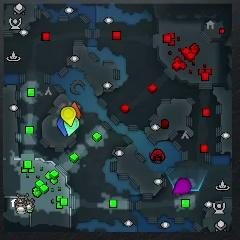p1: (57, 117, 67, 136)
p2: (64, 118, 79, 137)
p3: (173, 178, 191, 195)
p4: (60, 106, 76, 127)
p5: (71, 101, 82, 120)
